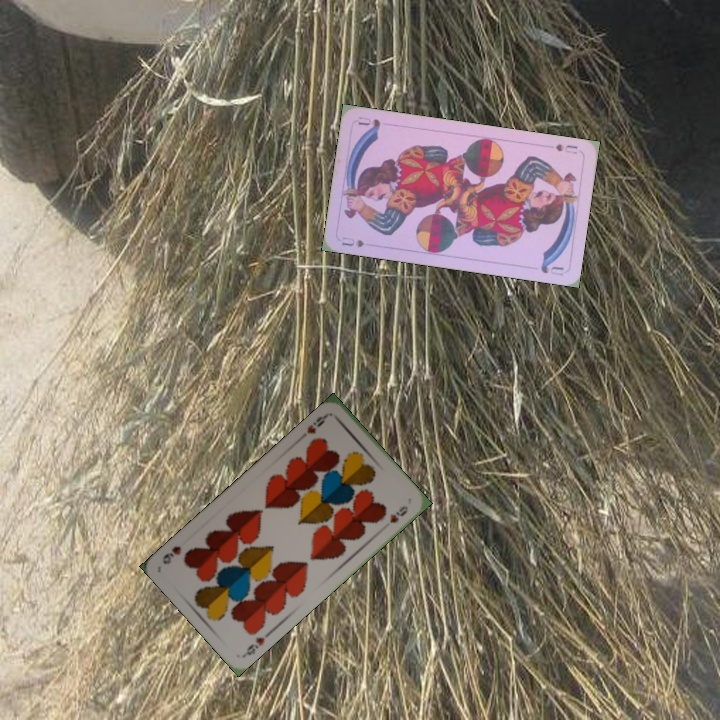H9: (303, 409, 331, 436), (239, 633, 267, 659)
SU: (338, 233, 367, 250), (552, 140, 580, 157)
